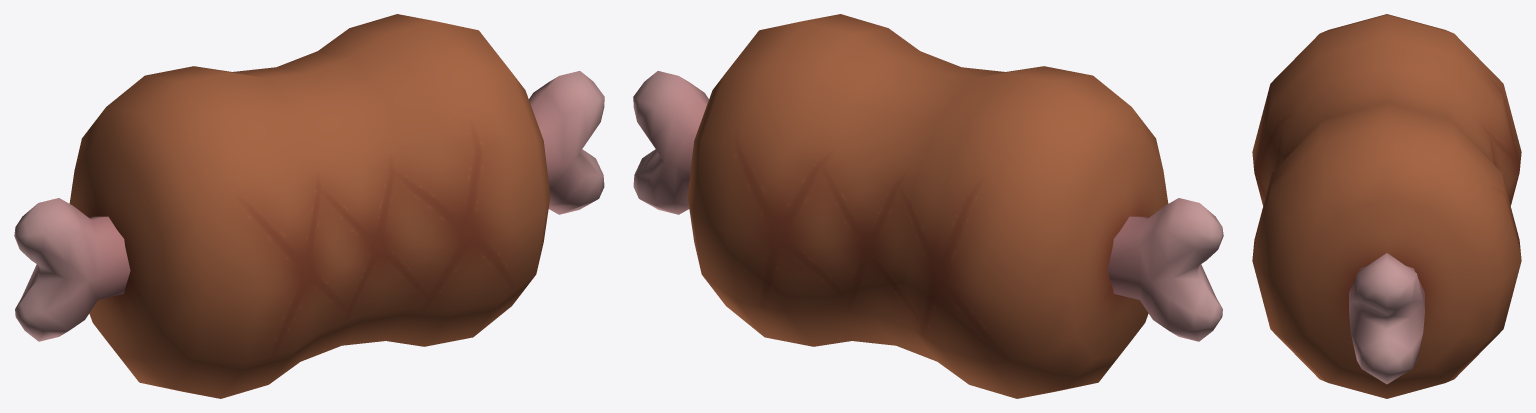
The model's file is Meat.fbx.
3 views of the same model, side by side, from view 1: azimuth 30°, elevation 25°; view 2: azimuth 150°, elevation 25°; view 3: azimuth 270°, elevation 25° (orthographic). The views are drawn at different scales.
Visible parts, largest first — view 1: Meat; view 2: Meat; view 3: Meat.
Boxes of the visible parts, bbox=[...] form: Meat: bbox=[14, 14, 604, 398]; Meat: bbox=[633, 14, 1223, 398]; Meat: bbox=[1252, 14, 1521, 398].
Bounding box in the file's own units: 74.66 × 37.74 × 33.68.
